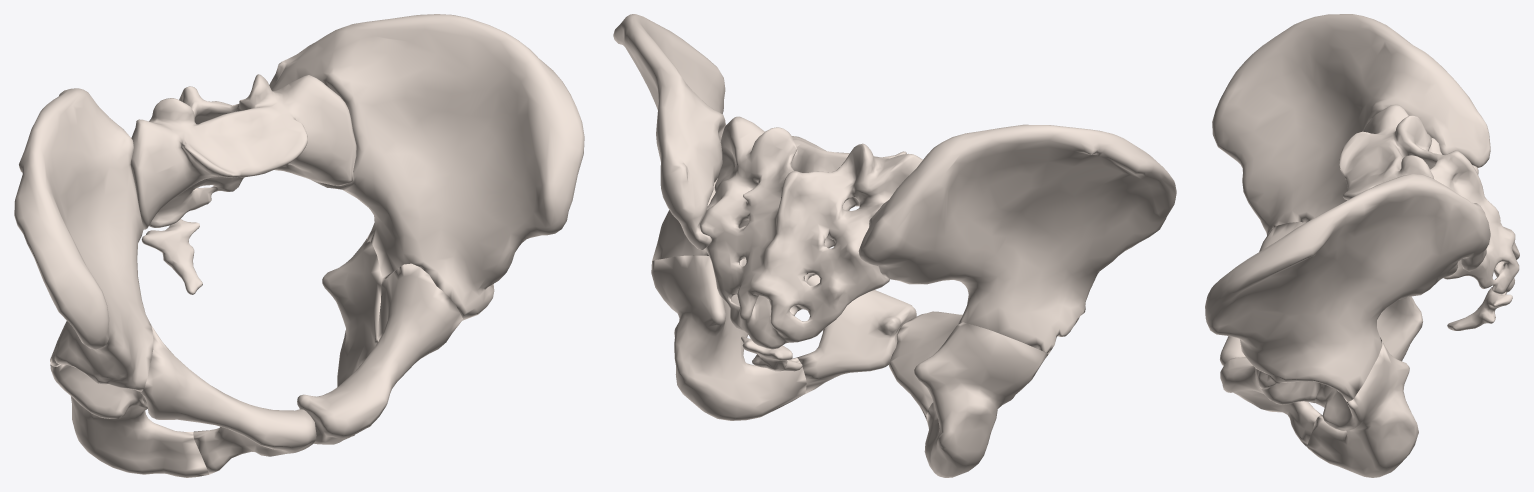
Rendered from vh_f_pelvis-40.glb.
The picture shows the model from 3 angles, left to right: view 1: azimuth 30°, elevation 25°; view 2: azimuth 150°, elevation 25°; view 3: azimuth 270°, elevation 25°; orthographic projection. The views are drawn at different scales.
Parts seen in each view (by area): view 1: VH_F_ilium_compact_bone_L, VH_F_ilium_compact_bone_R, VH_F_sacrum, VH_F_pubis_compact_bone_L, VH_F_pubis_compact_bone_R, VH_F_ischium_compact_bone_R, VH_F_ischium_compact_bone_L, VH_F_coccyx; view 2: VH_F_ilium_compact_bone_R, VH_F_sacrum, VH_F_ilium_compact_bone_L, VH_F_ischium_compact_bone_L, VH_F_ischium_compact_bone_R, VH_F_pubis_compact_bone_L, VH_F_pubis_compact_bone_R, VH_F_coccyx; view 3: VH_F_ilium_compact_bone_L, VH_F_ilium_compact_bone_R, VH_F_sacrum, VH_F_ischium_compact_bone_L, VH_F_pubis_compact_bone_L, VH_F_ischium_compact_bone_R, VH_F_coccyx, VH_F_pubis_compact_bone_R.
Part boxes in pixels (bbox=[...]): VH_F_ilium_compact_bone_L: bbox=[269, 14, 584, 320]; VH_F_ilium_compact_bone_R: bbox=[14, 88, 153, 392]; VH_F_sacrum: bbox=[130, 74, 356, 229]; VH_F_pubis_compact_bone_L: bbox=[297, 263, 462, 444]; VH_F_pubis_compact_bone_R: bbox=[140, 325, 316, 474]; VH_F_ischium_compact_bone_R: bbox=[50, 361, 209, 477]; VH_F_ischium_compact_bone_L: bbox=[322, 238, 382, 436]; VH_F_coccyx: bbox=[141, 219, 202, 294]; VH_F_ilium_compact_bone_R: bbox=[858, 124, 1176, 354]; VH_F_sacrum: bbox=[700, 116, 922, 349]; VH_F_ilium_compact_bone_L: bbox=[613, 14, 745, 260]; VH_F_ischium_compact_bone_L: bbox=[651, 255, 806, 420]; VH_F_ischium_compact_bone_R: bbox=[914, 322, 1048, 477]; VH_F_pubis_compact_bone_L: bbox=[740, 258, 916, 393]; VH_F_pubis_compact_bone_R: bbox=[889, 311, 962, 420]; VH_F_coccyx: bbox=[741, 336, 802, 371]; VH_F_ilium_compact_bone_L: bbox=[1205, 174, 1490, 401]; VH_F_ilium_compact_bone_R: bbox=[1212, 14, 1490, 235]; VH_F_sacrum: bbox=[1339, 104, 1519, 294]; VH_F_ischium_compact_bone_L: bbox=[1307, 341, 1418, 477]; VH_F_pubis_compact_bone_L: bbox=[1220, 357, 1321, 447]; VH_F_ischium_compact_bone_R: bbox=[1377, 296, 1422, 361]; VH_F_coccyx: bbox=[1447, 287, 1512, 330]; VH_F_pubis_compact_bone_R: bbox=[1220, 222, 1305, 365].
Bounding box in the file's own units: 0.3168 × 0.2116 × 0.1826.
